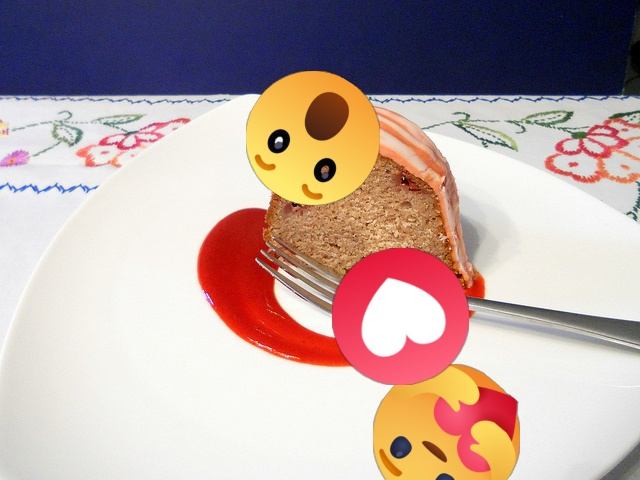care: (373, 364, 520, 480)
love: (332, 248, 469, 385)
wow: (246, 71, 380, 205)
